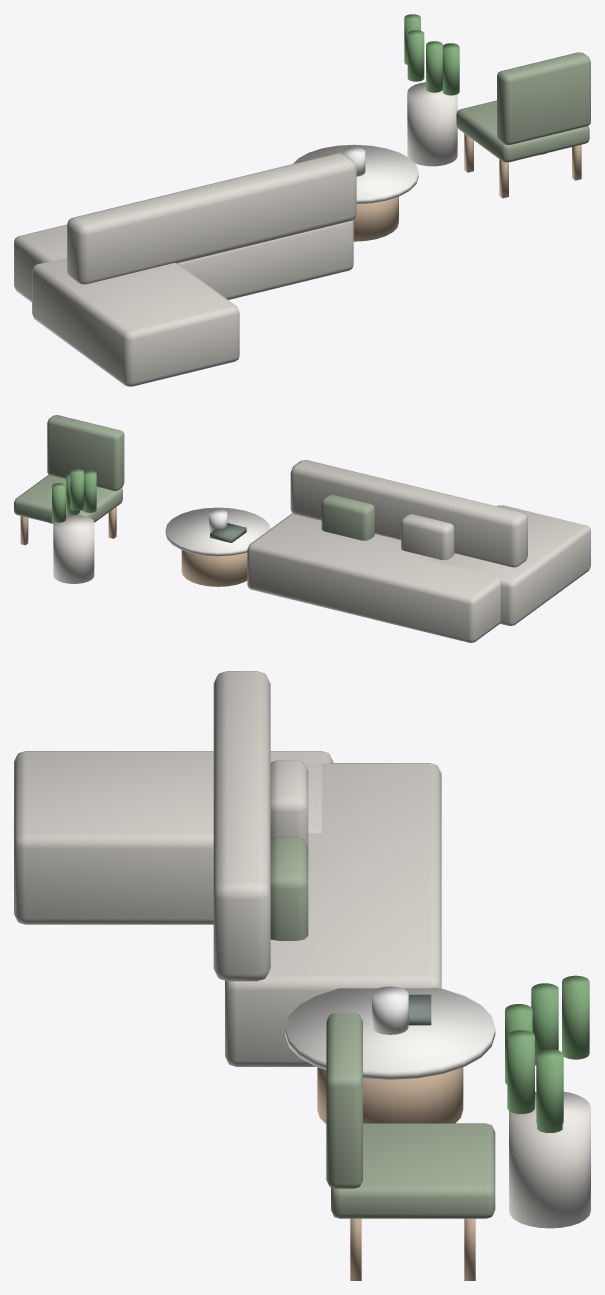
File: room_hillside_living.glb
3 views of the same model, one above another, from view 1: azimuth 30°, elevation 25°; view 2: azimuth 150°, elevation 25°; view 3: azimuth 270°, elevation 25° (orthographic). The views are drawn at different scales.
Visible parts, largest first — view 1: Sofa_Main_Back, Sofa_Chaise_Base, Sofa_Main_Base, Chair_Back, Plant_Pot, Chair_Seat, Coffee_Table_Top, Coffee_Table_Fluted_Base, Plant_Leaf_3, Plant_Leaf_1, Plant_Leaf_2; view 2: Sofa_Main_Base, Sofa_Main_Back, Sofa_Chaise_Base, Chair_Back, Coffee_Table_Top, Plant_Pot, Chair_Seat, Sofa_Cushion_1, Sofa_Cushion_2, Coffee_Table_Fluted_Base, Plant_Leaf_4, Plant_Leaf_0 (+3 smaller); view 3: Sofa_Main_Base, Sofa_Chaise_Base, Sofa_Main_Back, Chair_Seat, Coffee_Table_Top, Plant_Pot, Chair_Back, Coffee_Table_Fluted_Base, Sofa_Cushion_1, Sofa_Cushion_2, Plant_Leaf_1, Plant_Leaf_4 (+4 smaller).
Part boxes in pixels (box(x1,y1,x2,y2)): Sofa_Main_Back: box(67, 153, 356, 284); Sofa_Chaise_Base: box(32, 257, 239, 386); Sofa_Main_Base: box(14, 220, 353, 302); Chair_Back: box(497, 52, 590, 144); Plant_Pot: box(407, 82, 457, 166); Chair_Seat: box(456, 100, 589, 162); Coffee_Table_Top: box(293, 144, 418, 203); Coffee_Table_Fluted_Base: box(353, 196, 398, 241); Plant_Leaf_3: box(407, 30, 424, 81); Plant_Leaf_1: box(442, 44, 459, 95); Plant_Leaf_2: box(426, 41, 442, 92); Sofa_Main_Base: box(247, 513, 500, 642); Sofa_Main_Back: box(290, 460, 527, 567); Sofa_Chaise_Base: box(427, 505, 590, 625); Chair_Back: box(47, 415, 124, 490); Coffee_Table_Top: box(165, 507, 270, 556); Plant_Pot: box(53, 515, 94, 583); Chair_Seat: box(14, 474, 122, 523); Sofa_Cushion_1: box(321, 494, 374, 540); Sofa_Cushion_2: box(401, 514, 454, 560); Coffee_Table_Fluted_Base: box(181, 550, 247, 586); Plant_Leaf_4: box(70, 469, 83, 510); Plant_Leaf_0: box(52, 483, 65, 523); Sofa_Main_Base: box(225, 763, 441, 1066); Sofa_Chaise_Base: box(14, 751, 333, 924); Sofa_Main_Back: box(213, 671, 270, 981); Chair_Seat: box(331, 1123, 495, 1218); Coffee_Table_Top: box(285, 987, 495, 1079); Plant_Pot: box(509, 1091, 590, 1228); Chair_Back: box(326, 1013, 362, 1188); Coffee_Table_Fluted_Base: box(317, 1067, 463, 1123); Sofa_Cushion_1: box(270, 837, 308, 940); Sofa_Cushion_2: box(270, 760, 308, 847); Plant_Leaf_1: box(507, 1030, 534, 1113); Plant_Leaf_4: box(562, 975, 589, 1059).
Size of the model in its own units: 4.63 by 1.06 by 2.53.
